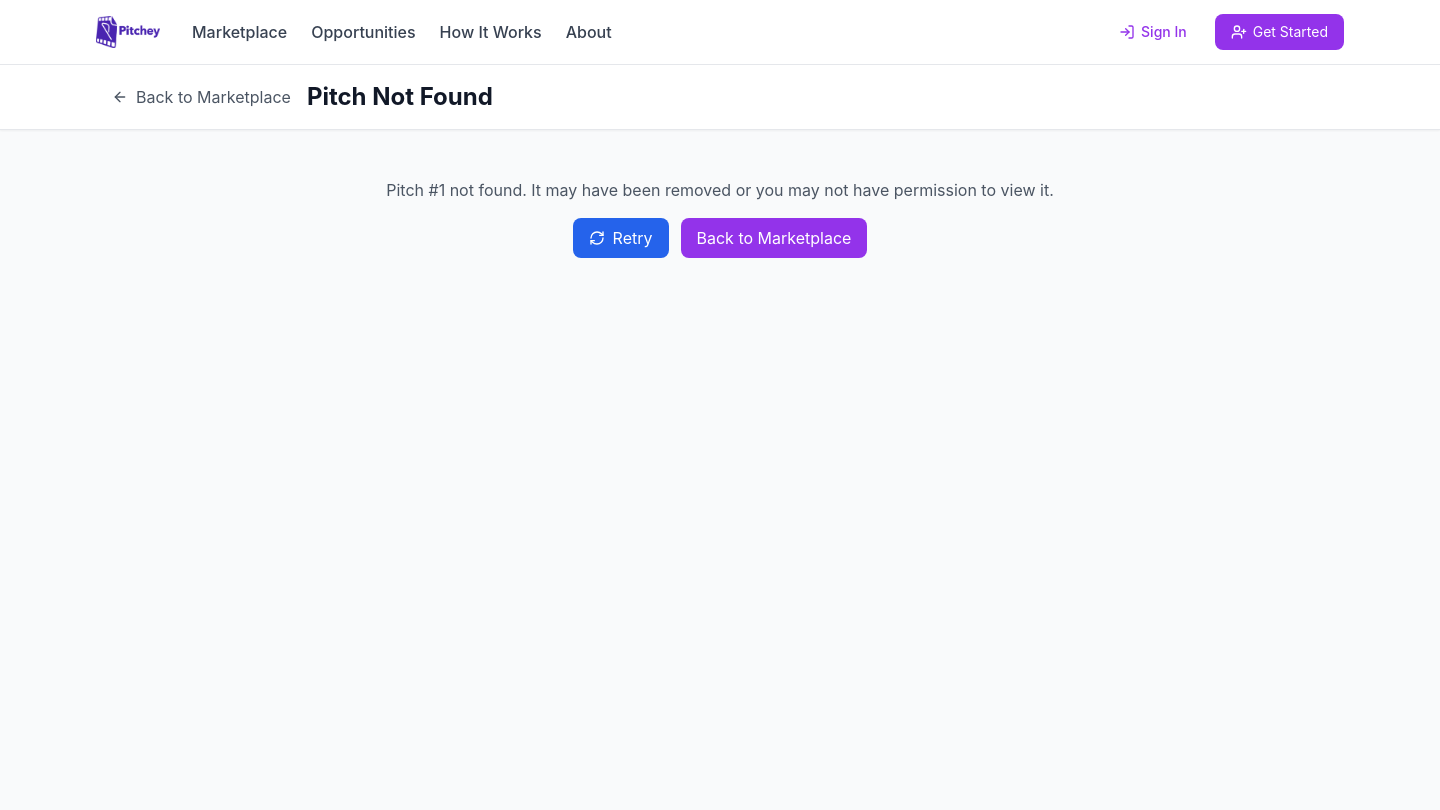
PitchDetail › Error Handling › retry button re-fetches pitch
Click the button "Retry".
click(621, 238)  # box [573,218,668,258]
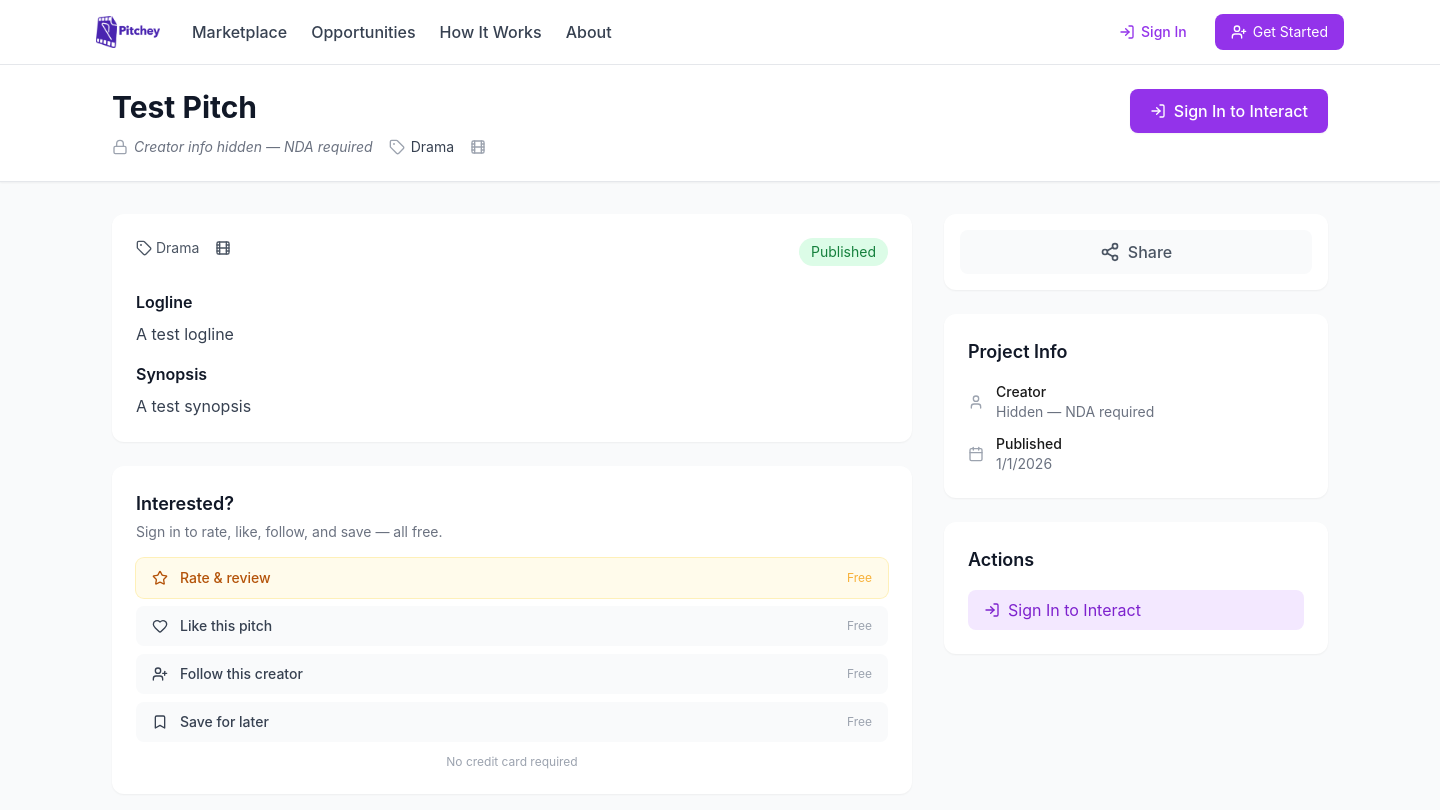
Expected: the heading "Test Pitch" is shown, [112,89,257,125]
